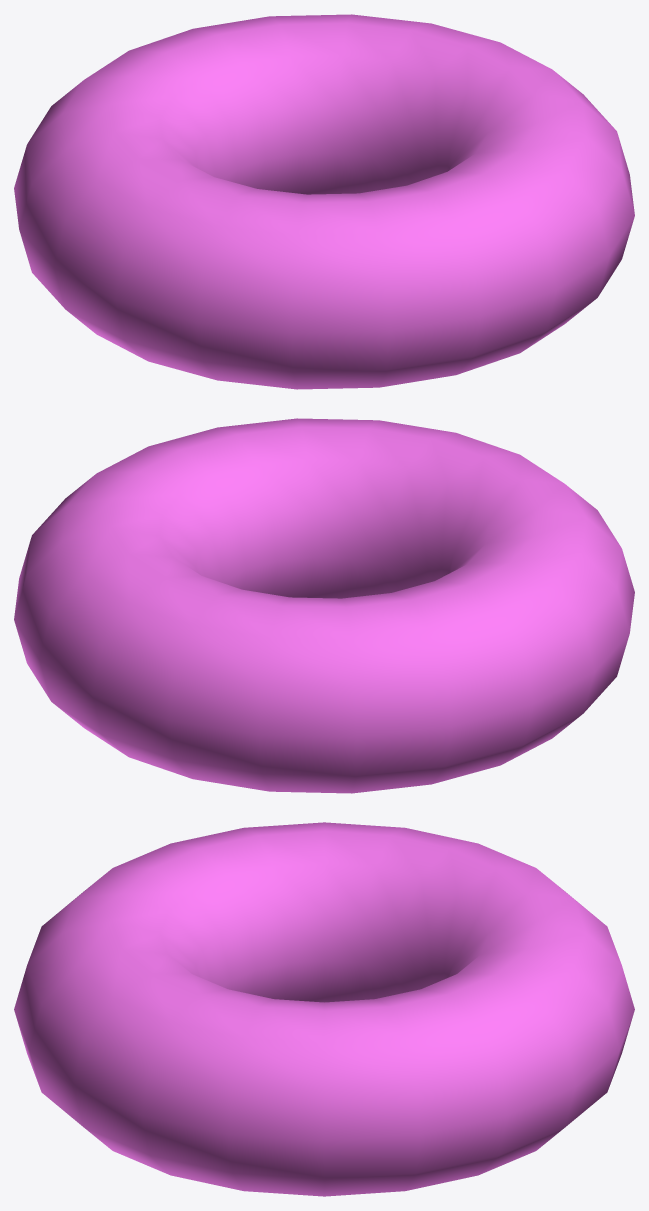
The picture shows the model from 3 angles, top to bottom: view 1: azimuth 30°, elevation 25°; view 2: azimuth 150°, elevation 25°; view 3: azimuth 270°, elevation 25°; orthographic projection.
Size of the model in its own units: 1.02 by 0.32 by 1.02.
